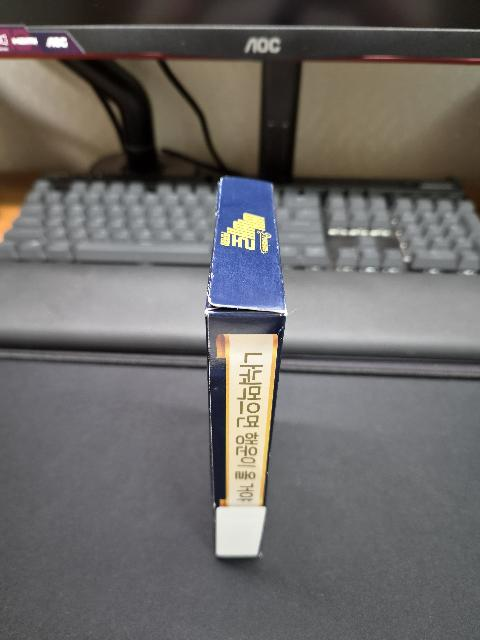pepero: (204, 176, 288, 559)
